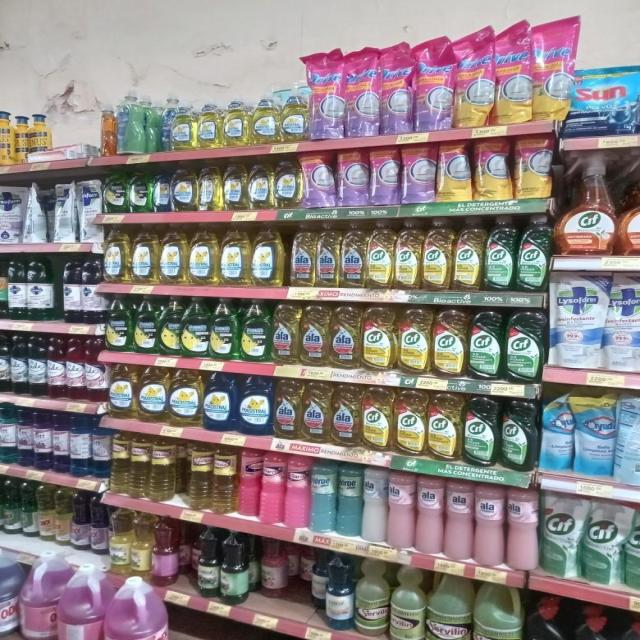ala_conc_amarillo: (331, 304, 361, 369), (332, 383, 361, 448), (300, 303, 329, 367), (302, 381, 331, 444), (272, 301, 299, 365), (289, 221, 315, 287), (274, 378, 301, 439), (316, 220, 340, 288), (341, 220, 365, 288)
ala_crem_blanco: (362, 466, 387, 544)
ala_crem_rosado: (506, 486, 538, 572), (475, 484, 505, 566), (445, 479, 473, 562), (416, 475, 444, 555), (388, 470, 414, 550)
cif_conc_bot_amarilla: (427, 390, 462, 462), (432, 307, 467, 379), (422, 216, 453, 292), (398, 306, 431, 376), (362, 305, 396, 372), (454, 216, 483, 292), (395, 388, 426, 457), (362, 385, 393, 452), (366, 218, 394, 290), (395, 217, 421, 290)
cif_conc_botella_verde: (505, 309, 544, 384), (502, 397, 538, 471), (517, 215, 550, 292), (464, 395, 499, 467), (468, 309, 503, 381), (485, 214, 516, 292)
cif_conc_sachet_verde: (541, 492, 581, 578), (582, 500, 622, 585), (625, 511, 640, 591)
drive: (455, 26, 494, 128), (496, 20, 532, 125), (415, 36, 453, 132), (311, 50, 345, 140), (382, 41, 414, 135), (346, 47, 379, 138), (370, 146, 400, 205), (338, 149, 368, 206)
heroe: (284, 453, 310, 529), (311, 458, 336, 533), (337, 462, 361, 537)
magistral_con_amarillo: (252, 222, 285, 287), (169, 368, 202, 427), (220, 222, 250, 286), (189, 223, 218, 286), (160, 223, 188, 285), (137, 366, 168, 422), (131, 223, 158, 284), (104, 223, 130, 284), (108, 363, 136, 419), (281, 89, 309, 142), (169, 96, 195, 151), (252, 94, 280, 144), (222, 96, 250, 146), (275, 160, 301, 209), (196, 98, 221, 148), (249, 162, 274, 210), (224, 164, 248, 211), (172, 167, 197, 212), (198, 166, 222, 211)
magistral_con_azul: (238, 374, 272, 436), (203, 372, 236, 431)
